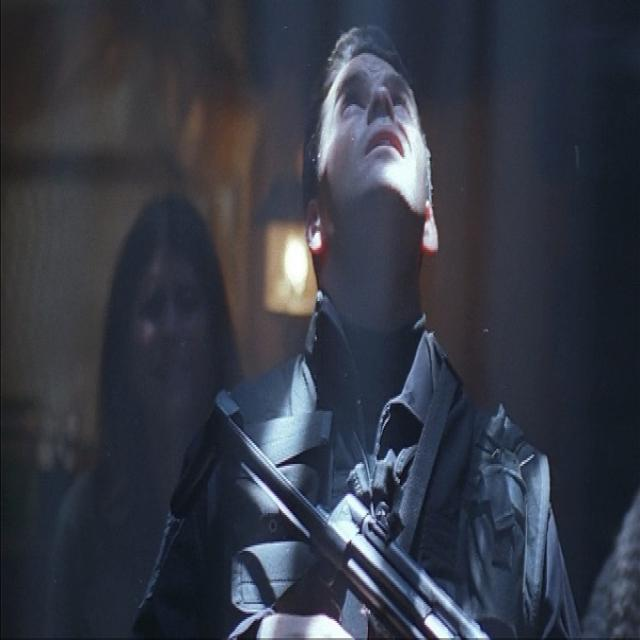rifle: (166, 389, 493, 640)
